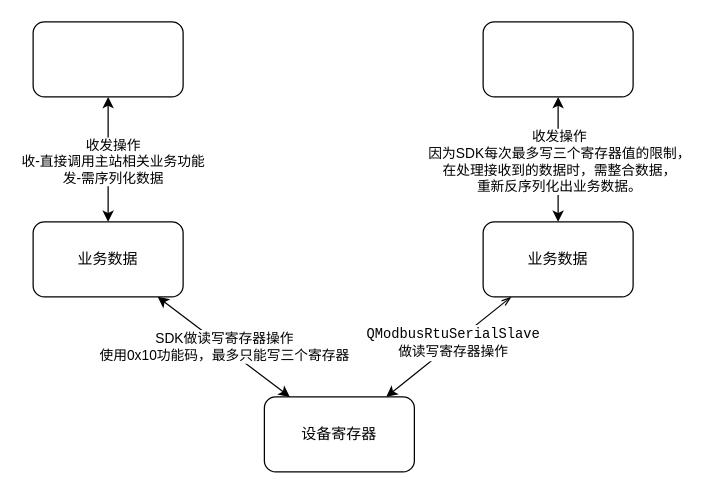
Image size: 713x494. Some labels were removed from this diagram. The box of each missing label's shape, as (x1, y1, x2, y2) in pixels:
主站应用: (32, 21, 183, 97)
从站设备应用: (482, 21, 633, 97)
